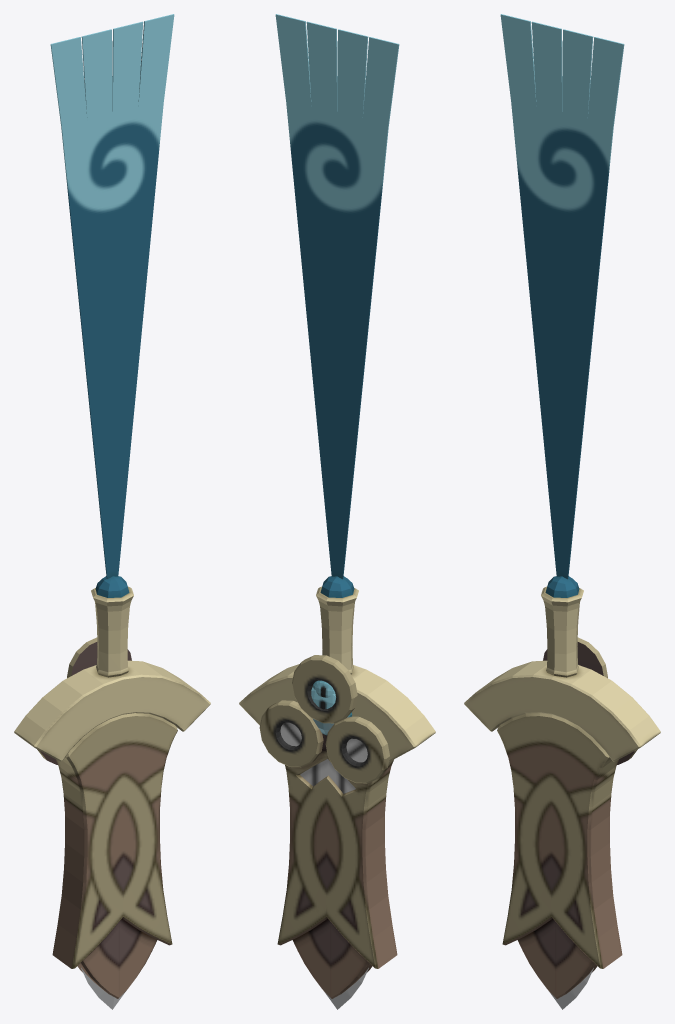
The model's file is XY_Honedge.fbx.
3 renders of one model, left to right at view 1: azimuth 30°, elevation 25°; view 2: azimuth 150°, elevation 25°; view 3: azimuth 330°, elevation 25°, orthographic.
Parts seen in each view (by area): view 1: HonedgeSword, Honedge; view 2: HonedgeSword, Honedge; view 3: HonedgeSword, Honedge.
Part boxes in pixels (box(x1,y1,x2,y2)): HonedgeSword: box(14, 14, 210, 1009); Honedge: box(37, 637, 177, 998); HonedgeSword: box(239, 14, 435, 1009); Honedge: box(259, 655, 397, 998); HonedgeSword: box(464, 14, 660, 1009); Honedge: box(497, 637, 637, 998).
Bounding box in the file's own units: 35.34 × 187 × 9.2.
Materials: 2 (2 with a texture image).
